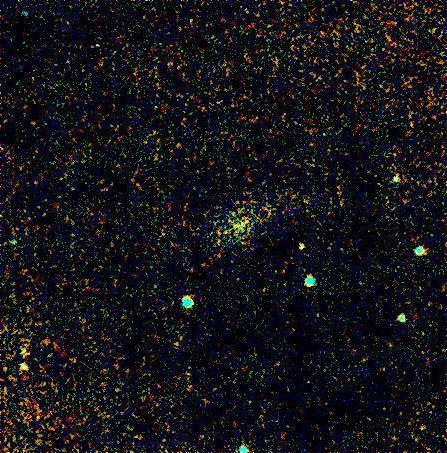star: (286, 229, 316, 259)
